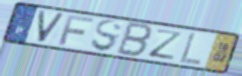B: (114, 21, 155, 59)
F: (57, 14, 96, 47)
L: (178, 31, 204, 67)
S: (90, 19, 124, 54)
V: (36, 9, 68, 44)
Z: (147, 28, 185, 61)
